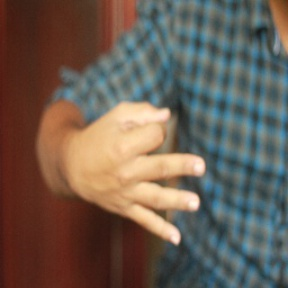K: (69, 98, 208, 248)
